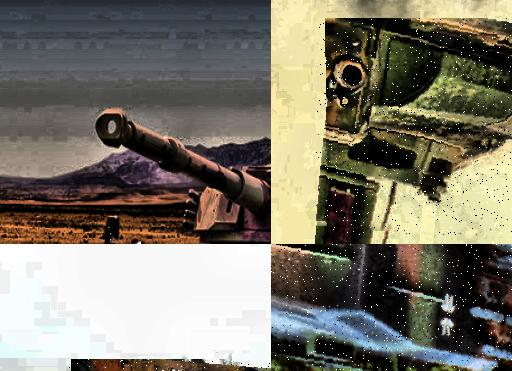tanks: (317, 20, 512, 237), (272, 245, 512, 371), (98, 111, 272, 245), (109, 218, 120, 243), (140, 243, 144, 245)
